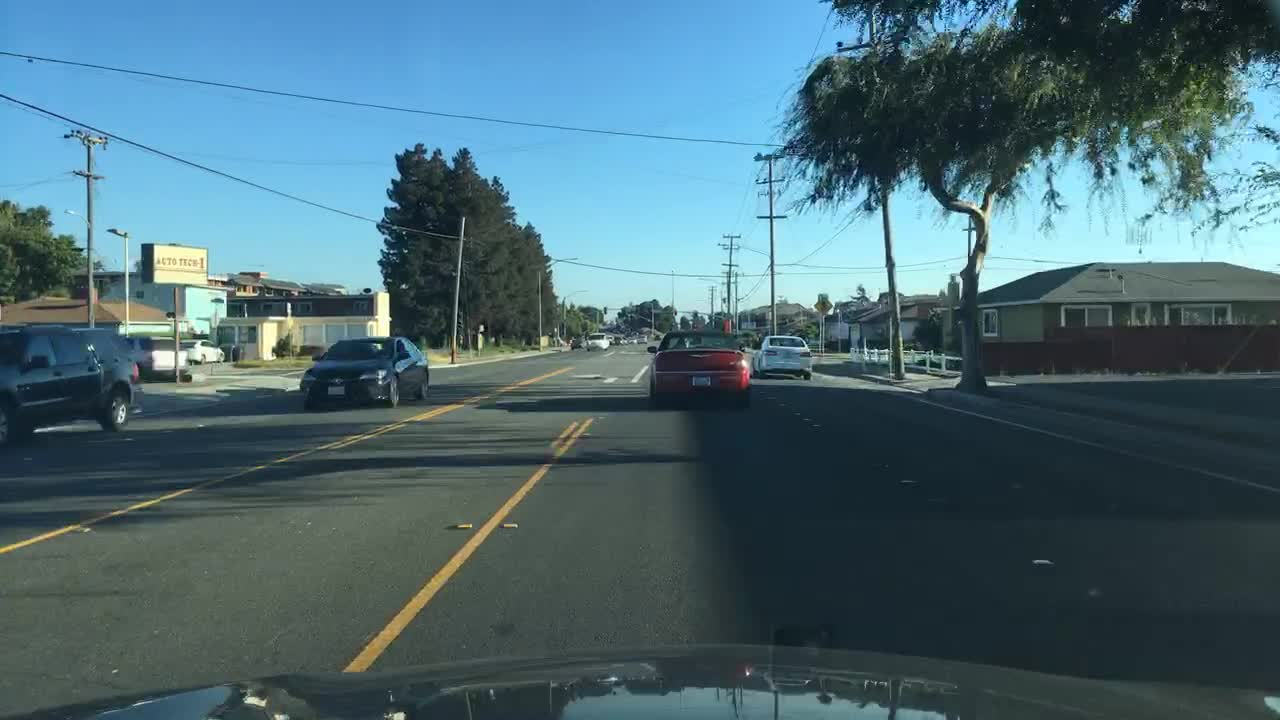car: (0, 319, 140, 446), (298, 333, 432, 411), (644, 323, 751, 407), (119, 330, 189, 378), (749, 331, 813, 383), (176, 335, 226, 364), (584, 329, 611, 353), (569, 335, 585, 350), (604, 333, 613, 346), (638, 333, 647, 345), (612, 333, 620, 346), (626, 335, 636, 345), (619, 334, 627, 345)
traffic sign: (811, 298, 833, 315)
